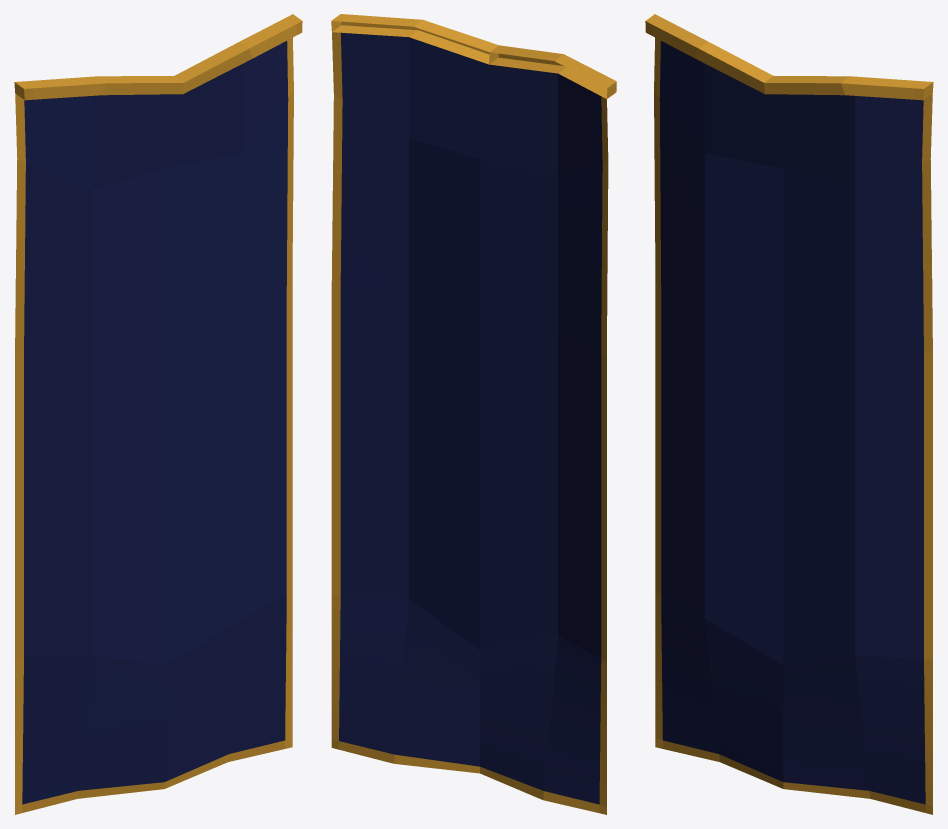
File: simulation.gltf
The picture shows the model from 3 angles, left to right: view 1: azimuth 30°, elevation 25°; view 2: azimuth 150°, elevation 25°; view 3: azimuth 330°, elevation 25°; orthographic projection.
Parts seen in each view (by area): view 1: legendary_armour.002; view 2: legendary_armour.002; view 3: legendary_armour.002.
Boxes of the visible parts, bbox=[...] form: legendary_armour.002: bbox=[14, 14, 302, 814]; legendary_armour.002: bbox=[331, 14, 616, 814]; legendary_armour.002: bbox=[645, 14, 933, 814].
Bounding box in the file's own units: 0.2162 × 0.5438 × 0.0417.
